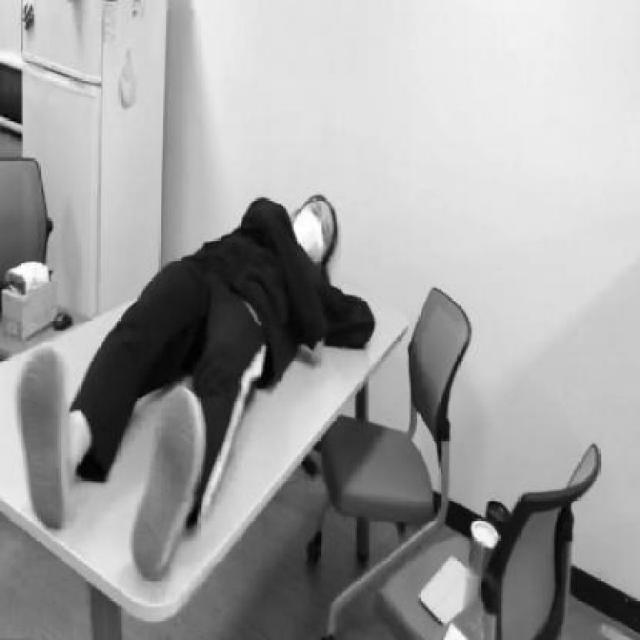person: (15, 182, 372, 580)
